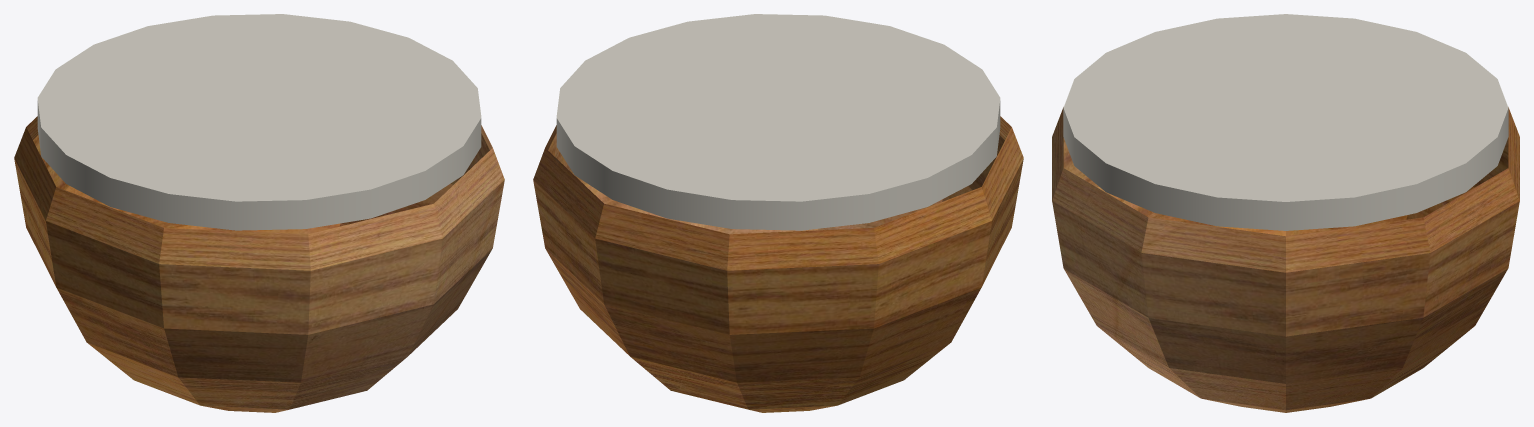
Rendered from Tambores fbx proyecto Tambor 1 parte arriba.fbx.
3 renders of one model, left to right at view 1: azimuth 30°, elevation 25°; view 2: azimuth 150°, elevation 25°; view 3: azimuth 270°, elevation 25°, orthographic.
Parts seen in each view (by area): view 1: simpleSetPercussion1:pCylinder1, simpleSetPercussion1:pSphere1; view 2: simpleSetPercussion1:pCylinder1, simpleSetPercussion1:pSphere1; view 3: simpleSetPercussion1:pCylinder1, simpleSetPercussion1:pSphere1.
Boxes of the visible parts, box(x1,y1,x2,y2) form: simpleSetPercussion1:pCylinder1: box(37, 14, 481, 230); simpleSetPercussion1:pSphere1: box(14, 116, 504, 412); simpleSetPercussion1:pCylinder1: box(556, 14, 1000, 230); simpleSetPercussion1:pSphere1: box(533, 116, 1023, 412); simpleSetPercussion1:pCylinder1: box(1063, 14, 1508, 230); simpleSetPercussion1:pSphere1: box(1052, 107, 1519, 412).
Size of the model in its own units: 7.37 by 4.69 by 7.01.
2 materials, 1 textured.
